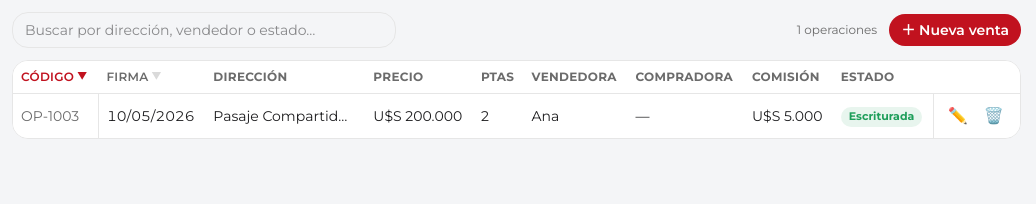
Test: OperacionesTable — editar y borrar con la venta completa › si la venta no llega, avisa y no abre el formulario
Step 1. Click the button named "Editar la venta OP-1003 (Pasaje Compartido 50)" → coordinates (958, 116), box [942,102,974,130]
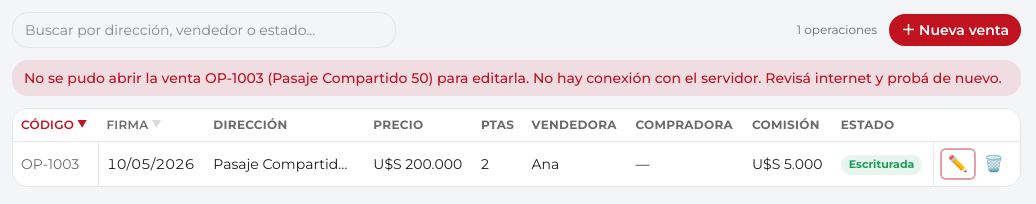
Result: the message shows "No se pudo abrir la venta OP-1003 (Pasaje Compartido 50) para editarla. No hay conexión con el servidor." at [24,69,1002,87]
